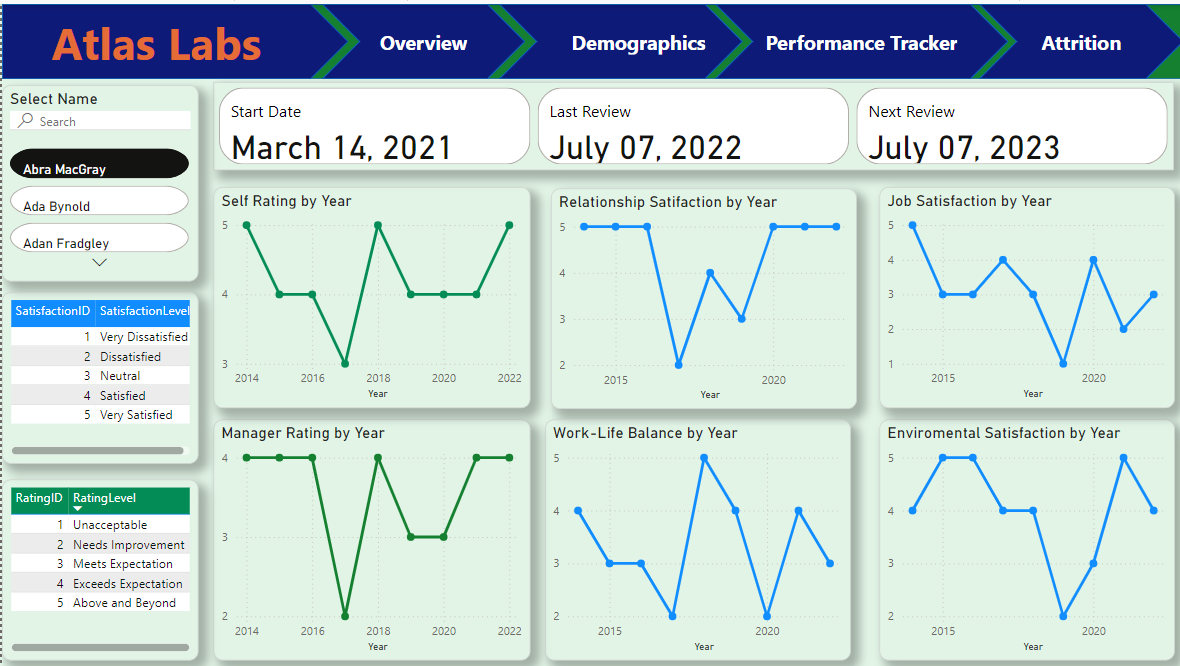

Layout of this report page (visuals, bound fields, positions):
{"tool":"powerbi","page":{"name":"Performance Tracker","canvas":[1280,720],"ordinal":2},"visuals":[{"type":"shape","box":[0,0,1276,81],"z":0},{"type":"cardVisual","fields":{"Data":["DimEmployee.HireDateShort","_Measures.LastReviewDate","_Measures.NextReviewDate"]},"box":[228.3,85,1036.7,95],"z":1000},{"type":"advancedSlicerVisual","title":"Select Name","fields":{"Values":["DimEmployee.Full Name"]},"box":[0,86.7,211.7,211.7],"z":2000},{"type":"shape","box":[1054.1,0,221.8,81],"z":3000},{"type":"lineChart","title":"Enviromental Satisfaction by Year","fields":{"Y":["_Measures.EnviromentalSatisfaction"],"Category":["DimDate.Year"]},"box":[946.7,448.3,318.3,260],"z":4000},{"type":"lineChart","title":"Job Satisfaction by Year","fields":{"Y":["_Measures.JobSatisfaction"],"Category":["DimDate.Year"]},"box":[946.7,198.3,318.3,238.3],"z":5000},{"type":"lineChart","title":"Relationship Satifaction by Year","fields":{"Y":["_Measures.RelationshipSatifaction"],"Category":["DimDate.Year"]},"box":[592.6,199.2,330.3,238],"z":6000},{"type":"lineChart","title":"Work-Life Balance by Year","fields":{"Y":["_Measures.WorkLifeBalance"],"Category":["DimDate.Year"]},"box":[586.7,448.3,330,260],"z":7000},{"type":"lineChart","title":"Manager Rating by Year","fields":{"Y":["_Measures.ManagerRating"],"Category":["DimDate.Year"]},"box":[228.3,448.3,341.7,260],"z":8000},{"type":"lineChart","title":"Self Rating by Year","fields":{"Y":["_Measures.SelfRating"],"Category":["DimDate.Year"]},"box":[228.3,198.3,341.7,238.3],"z":9000},{"type":"tableEx","fields":{"Values":["DimSatisfiedLevel.SatisfactionID","DimSatisfiedLevel.SatisfactionLevel"]},"box":[0,311.7,211.7,185],"z":10000},{"type":"shape","box":[344.9,0,220.2,81],"z":11000},{"type":"tableEx","fields":{"Values":["DimRatingLevel.RatingID","DimRatingLevel.RatingLevel"]},"box":[0,513.3,211.7,195],"z":12000},{"type":"shape","box":[536,0,263.9,81],"z":13000},{"type":"shape","box":[0,0,374,81],"z":14000},{"type":"shape","box":[769.1,0,317.4,81],"z":17000}]}

Visuals, with their boxes in screenshot pixels (x1, y1, x2, y2), scaled from the page's 1280x720 canvas onto the 1180x666 screenshot:
shape: Rect(0, 0, 1176, 75)
cardVisual - DimEmployee.HireDateShort x _Measures.LastReviewDate: Rect(210, 79, 1166, 166)
"Select Name" advancedSlicerVisual: Rect(0, 80, 195, 276)
shape: Rect(972, 0, 1176, 75)
"Enviromental Satisfaction by Year" lineChart: Rect(873, 415, 1166, 655)
"Job Satisfaction by Year" lineChart: Rect(873, 183, 1166, 404)
"Relationship Satifaction by Year" lineChart: Rect(546, 184, 851, 404)
"Work-Life Balance by Year" lineChart: Rect(541, 415, 845, 655)
"Manager Rating by Year" lineChart: Rect(210, 415, 525, 655)
"Self Rating by Year" lineChart: Rect(210, 183, 525, 404)
tableEx - DimSatisfiedLevel.SatisfactionID x DimSatisfiedLevel.SatisfactionLevel: Rect(0, 288, 195, 459)
shape: Rect(318, 0, 521, 75)
tableEx - DimRatingLevel.RatingID x DimRatingLevel.RatingLevel: Rect(0, 475, 195, 655)
shape: Rect(494, 0, 737, 75)
shape: Rect(0, 0, 345, 75)
shape: Rect(709, 0, 1002, 75)
